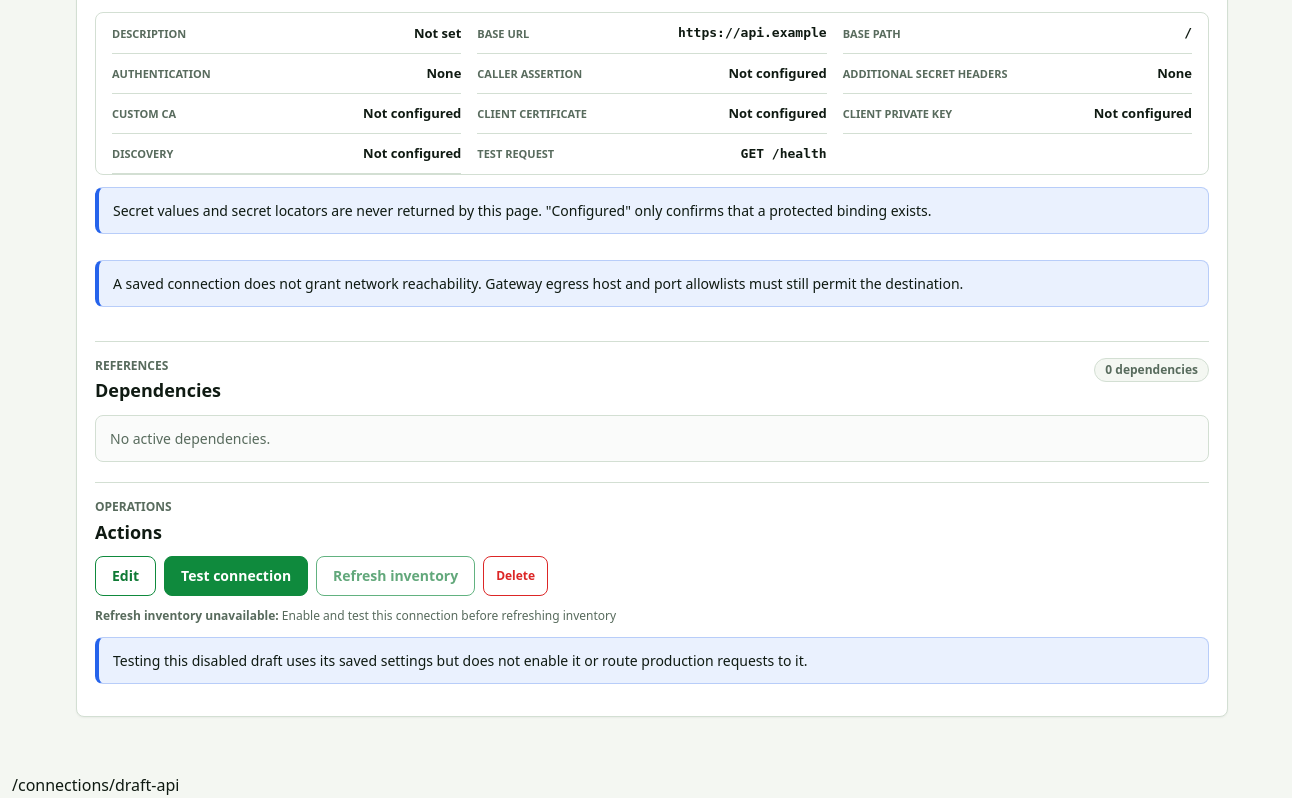
Scenario: ConnectionDetail › tests a disabled draft with its exact ETag and renders sanitized stages
(page scrolled)
Expected: the text "Testing this disabled draft uses its saved settings" is shown, [113, 651, 808, 670]
Click the button "Test connection": (236, 576) [164, 556, 308, 596]
(page scrolled)
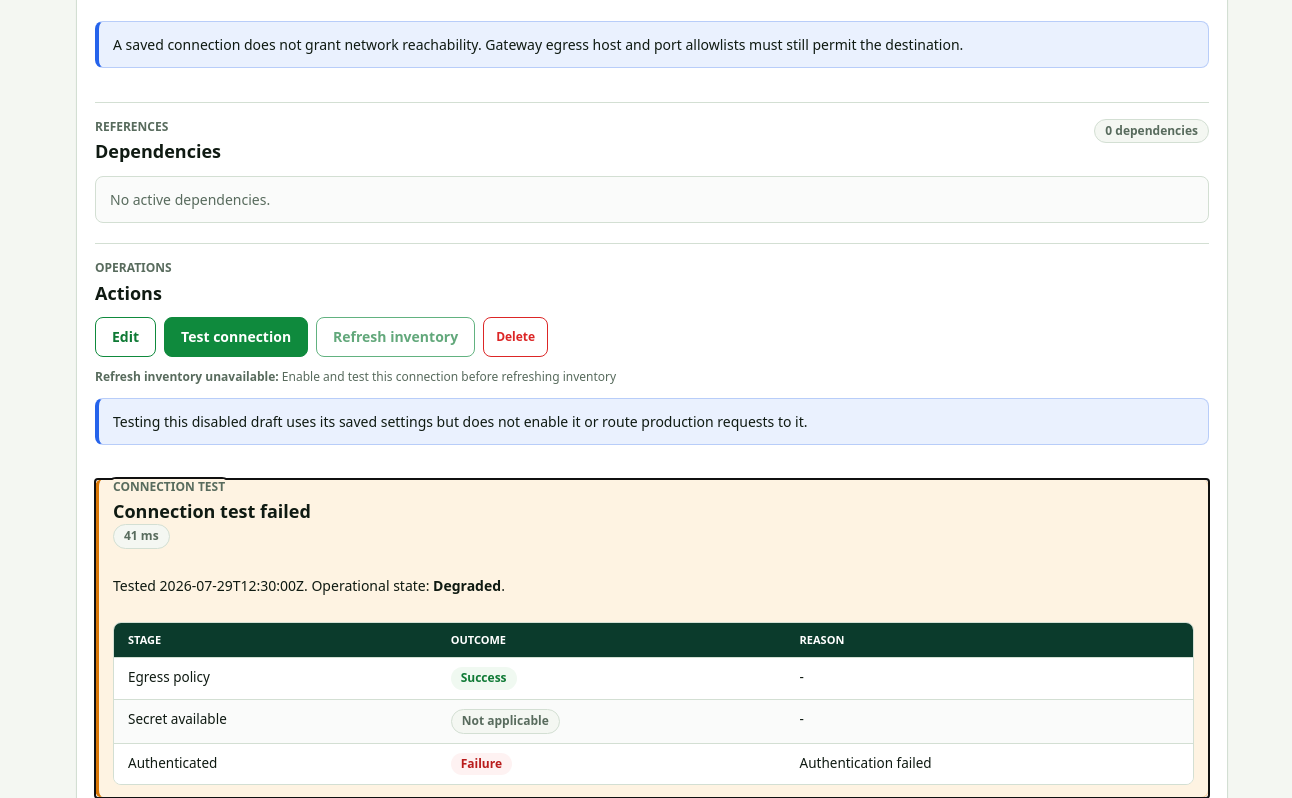
Expected: the heading "Connection test failed" is shown, [113, 499, 311, 523]
Expected: the text "Egress policy" is shown, [114, 658, 437, 699]
Expected: the text "Authentication failed" is shown, [786, 743, 1193, 784]
